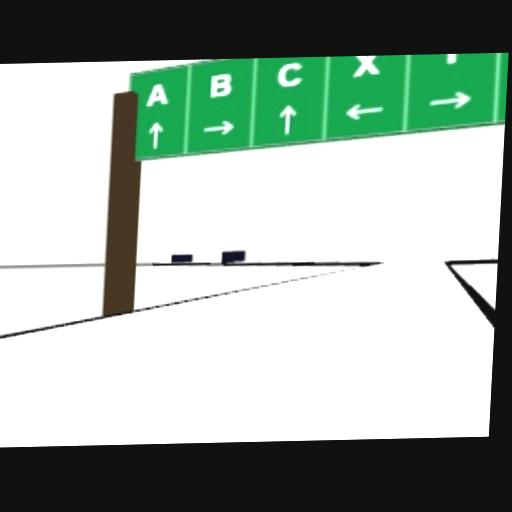A: (146, 82, 170, 107)
B: (209, 70, 232, 98)
C: (275, 61, 303, 88)
Left: (342, 103, 383, 121)
Right: (429, 90, 470, 110), (202, 119, 235, 135)
Straight: (277, 102, 298, 135), (148, 121, 164, 148)
X: (351, 56, 379, 76)
Y: (443, 54, 458, 64)
